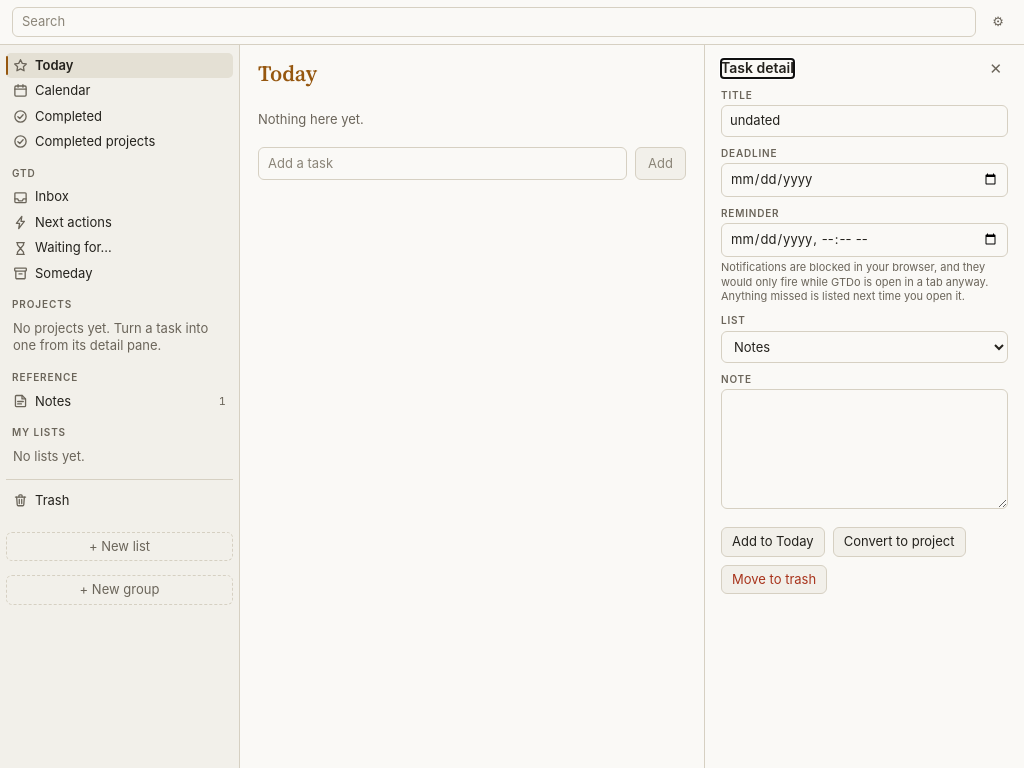
it: Detail pane › movingIntoNextActionsOpensTheDeadlinePrompt
The width and height of the screenshot is (1024, 768).
Select "Next actions" in the dropdown labelled "List" at (864, 347), box [721,331,1008,363]
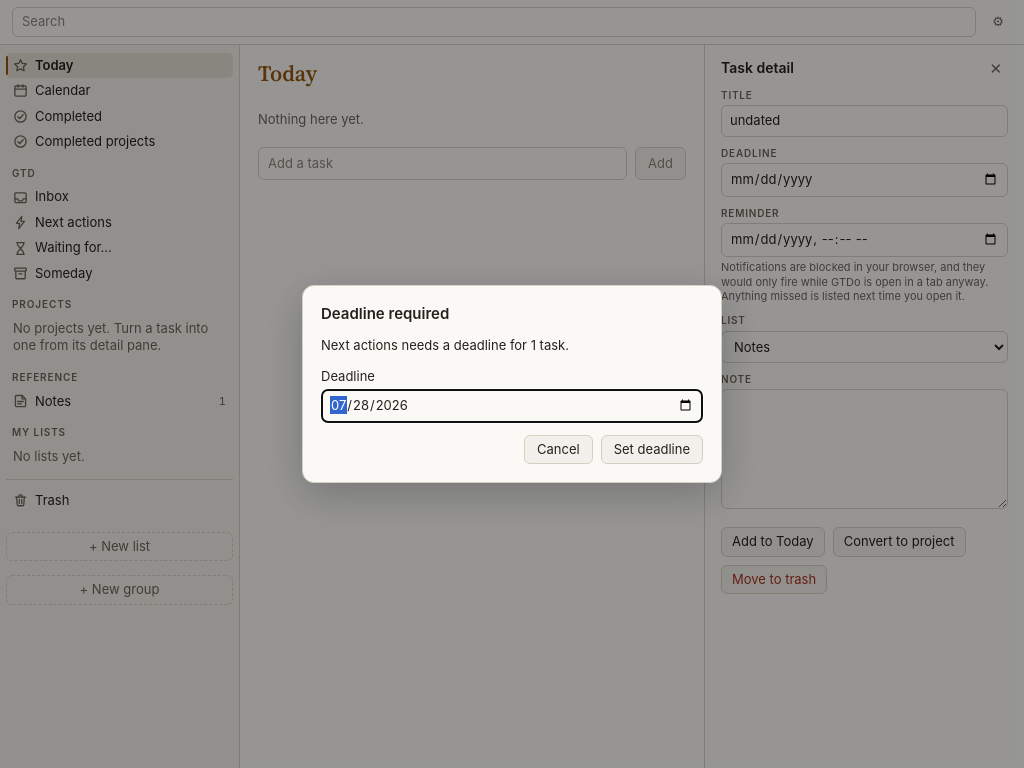
Result: the dialog named "Choose a deadline" is shown
